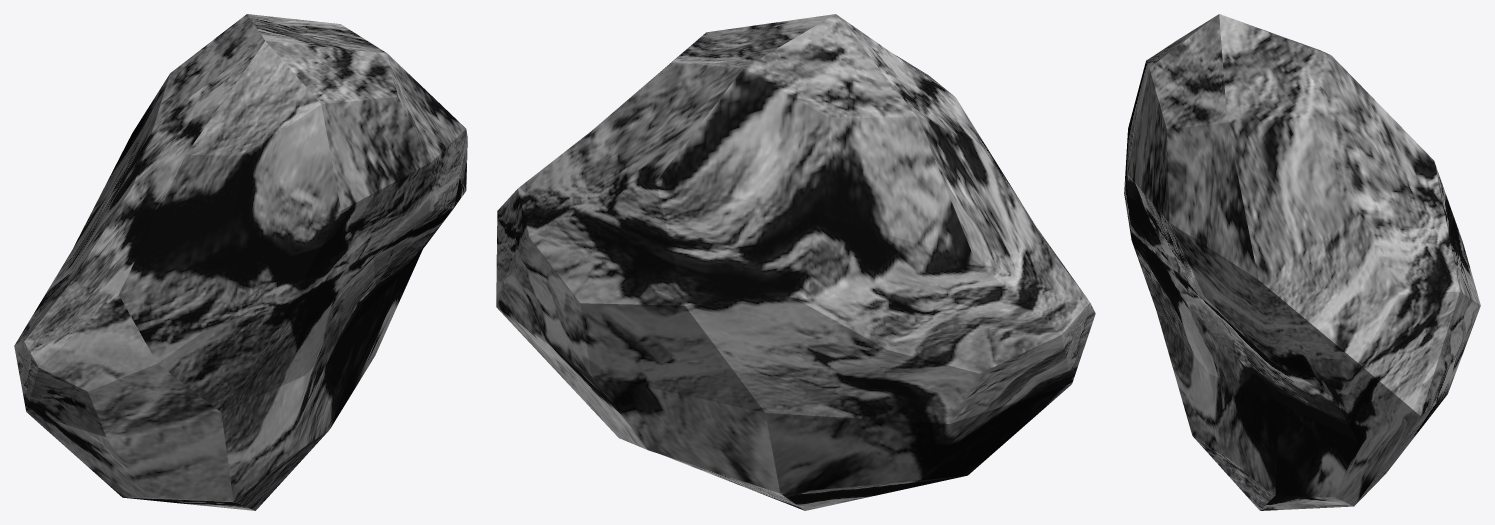
File: rock1.glb
3 renders of one model, left to right at view 1: azimuth 30°, elevation 25°; view 2: azimuth 150°, elevation 25°; view 3: azimuth 270°, elevation 25°, orthographic.
Visible parts, largest first — view 1: Icosphere; view 2: Icosphere; view 3: Icosphere.
Part boxes in pixels (<box>): Icosphere: <box>14,14,467,510</box>; Icosphere: <box>496,14,1095,510</box>; Icosphere: <box>1124,14,1480,510</box>.
Size of the model in its own units: 3.17 by 2.84 by 1.87.
Materials: 1 (1 with a texture image).
